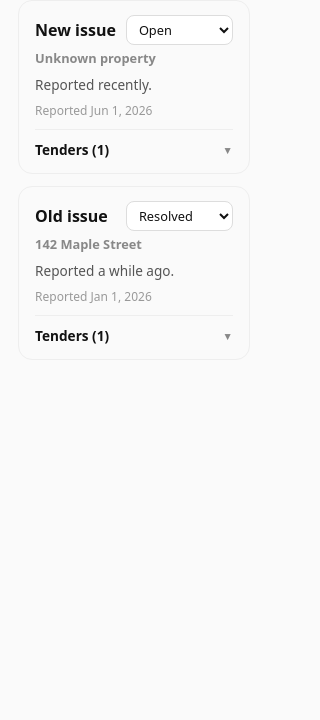
Test case: IssueList › tenders wiring › passes only the matching issue's tenders to each item
Click the button "Tenders (1) ▼" below "Old issue". click: click(134, 336)
box: [35,326,233,345]
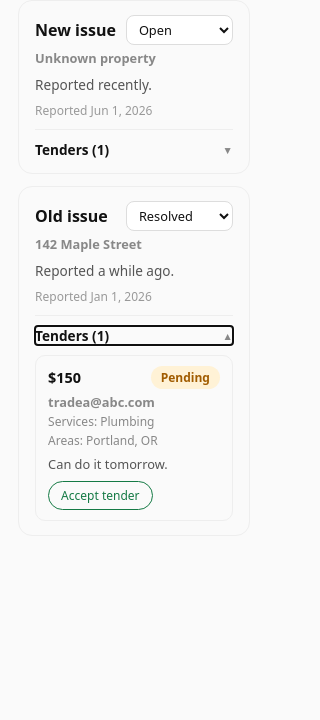
Expected: the text "other-trader@example.com" is not shown
Now the text "tradea@abc.com" is shown, box [48,393,155,411]
Click the button "Tenders (1) ▼". click: click(134, 150)
box: [35,140,233,159]
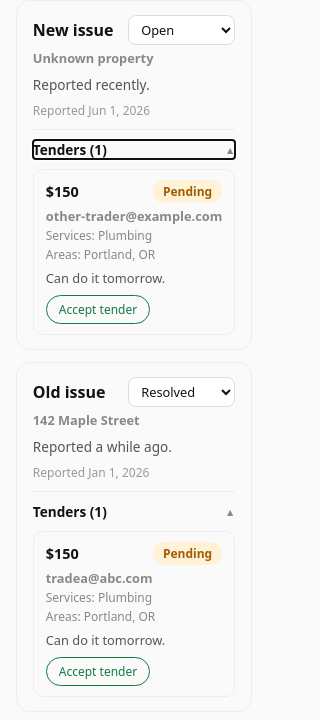
Now the text "other-trader@example.com" is shown, box [46,207,222,225]
